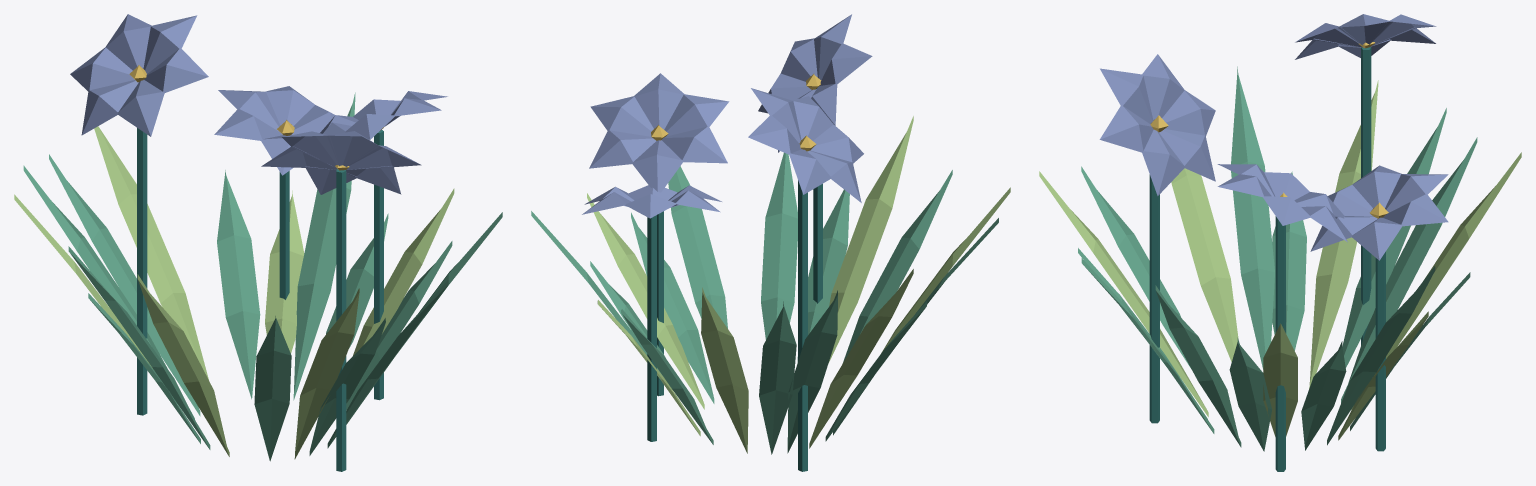
Rendered from iris.glb.
3 views of the same model, side by side, from view 1: azimuth 30°, elevation 25°; view 2: azimuth 150°, elevation 25°; view 3: azimuth 270°, elevation 25° (orthographic). The views are drawn at different scales.
Visible parts, largest first — view 1: Sunwen_iris; view 2: Sunwen_iris; view 3: Sunwen_iris.
Part boxes in pixels (box(x1,y1,x2,y2)): Sunwen_iris: box(14, 14, 502, 471); Sunwen_iris: box(531, 14, 1010, 471); Sunwen_iris: box(1039, 14, 1521, 471).
Size of the model in its own units: 0.9522 by 0.8706 by 0.993.
